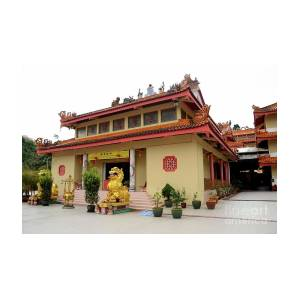Buddhist Temple: (33, 85, 234, 199)
